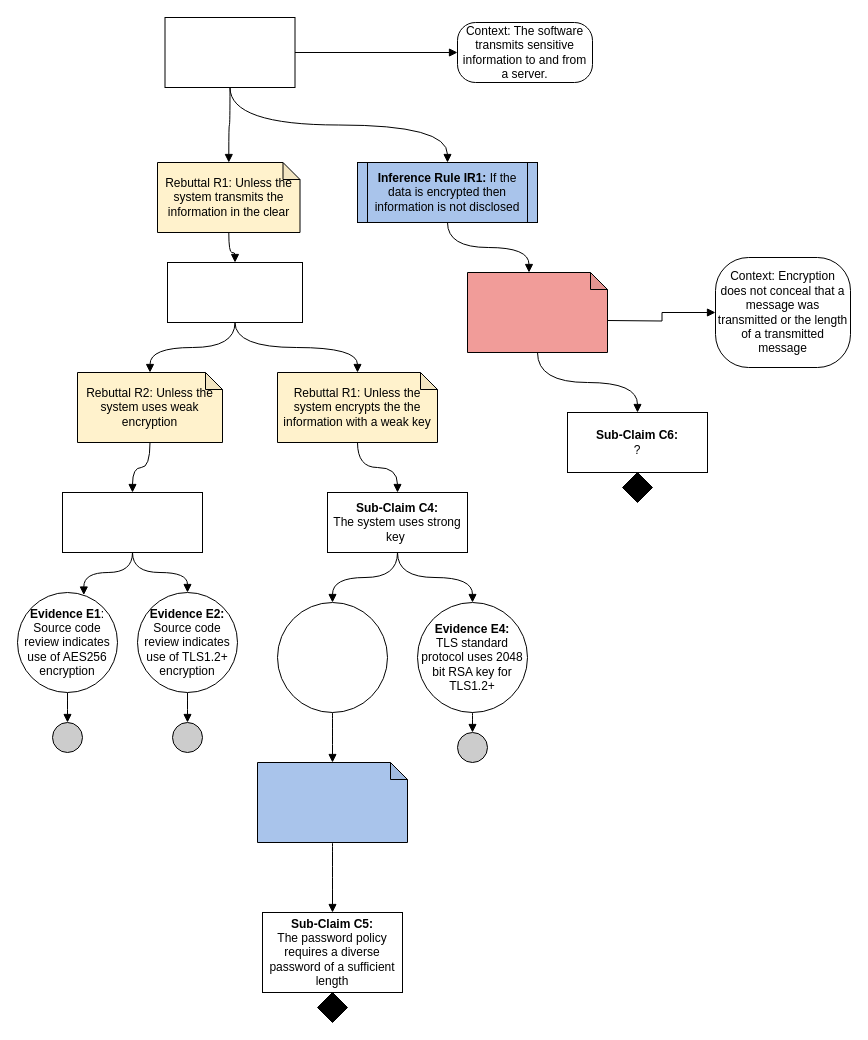
Some shapes in this 868 by 1040 pixel diagram are drawn without their labels. Here are the shapes that lost their labels. From the top down, the box of each, then its label:
(164, 16, 295, 88): Top-Claim C1: The system minimizes information disclosure during communication
(166, 262, 302, 322): Sub-Claim C2: The system uses encryption to secure data in transit
(466, 272, 608, 352): Undercut UC1: Unless an attacker performs pattern of life analysis
(62, 492, 202, 552): Sub-Claim C3: The system uses strong encryption
(276, 602, 388, 712): Evidence E3: Source code review indicates AES key is based on the users password
(256, 762, 408, 842): Undermine UM1: Unless the user has a bad password
